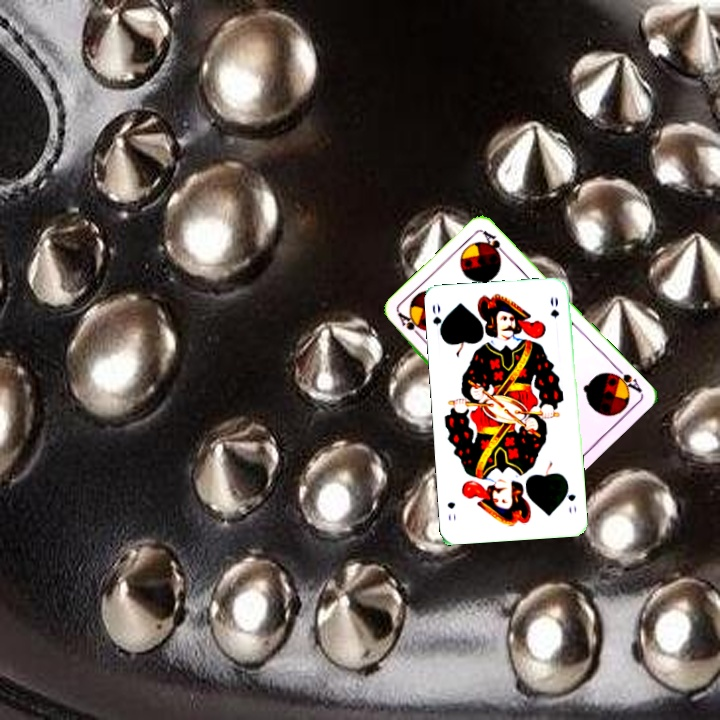GO: (428, 300, 448, 340), (561, 480, 579, 515)
SA: (607, 363, 644, 395), (394, 309, 426, 342)
